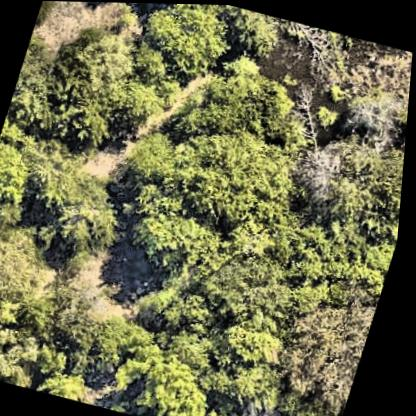tree-top: (165, 121, 307, 231), (269, 192, 395, 301), (5, 52, 138, 155), (278, 286, 382, 411), (197, 314, 304, 416), (123, 196, 242, 285), (35, 156, 131, 259), (205, 245, 314, 334), (0, 214, 73, 314), (85, 310, 170, 394), (134, 2, 237, 70), (112, 40, 195, 123), (35, 268, 112, 357), (138, 270, 231, 338), (141, 349, 229, 416), (285, 128, 362, 203), (117, 125, 186, 191), (74, 25, 140, 93), (342, 80, 411, 145), (0, 312, 58, 389), (0, 282, 35, 378), (0, 136, 41, 210), (37, 365, 107, 405), (370, 137, 408, 200), (36, 338, 83, 380), (278, 399, 348, 416)
